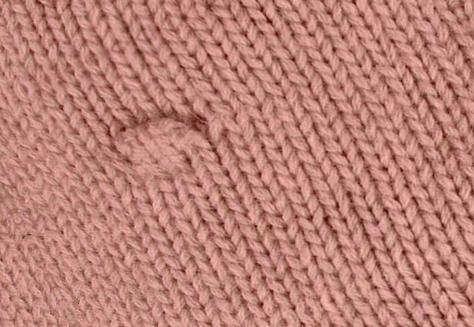knot: (108, 117, 218, 177)
